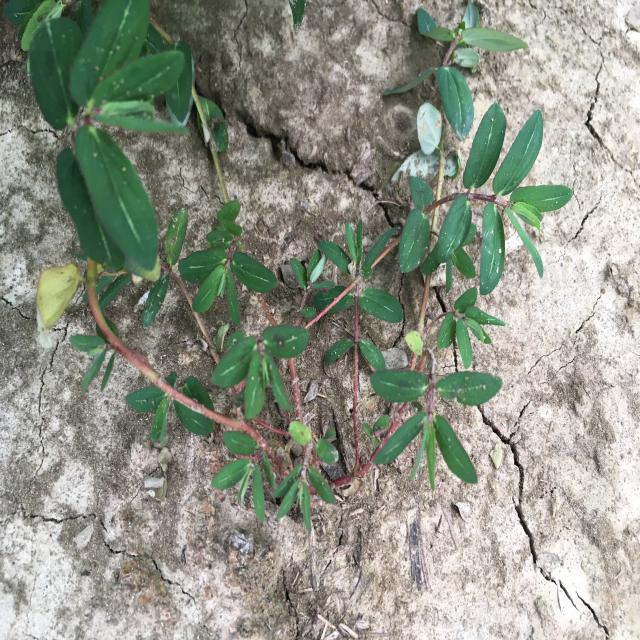SpottedSpurge: (2, 1, 574, 532)
